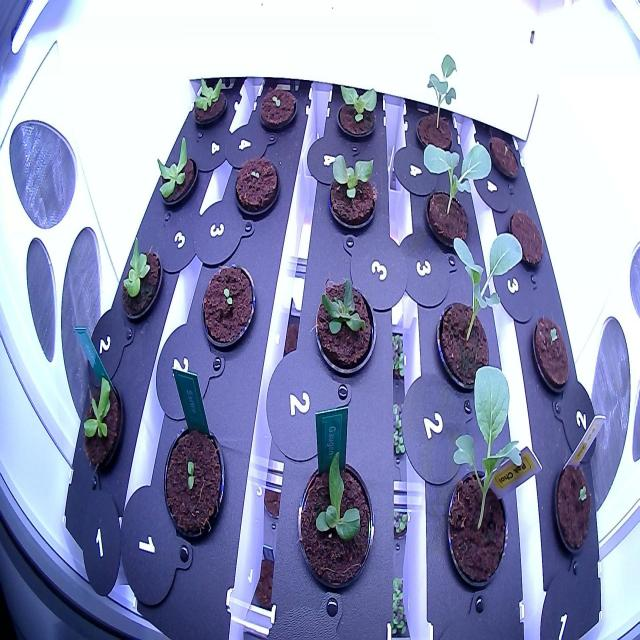germination: (158, 415, 228, 553), (197, 258, 260, 354), (546, 457, 602, 563), (527, 306, 578, 401), (229, 150, 283, 222), (254, 81, 302, 143), (485, 130, 523, 187)
pod: (504, 204, 547, 278)
young: (296, 449, 377, 601), (313, 264, 382, 383), (73, 370, 127, 478), (320, 142, 380, 236), (113, 231, 166, 328), (150, 133, 201, 216), (329, 74, 382, 150), (187, 67, 233, 139)
